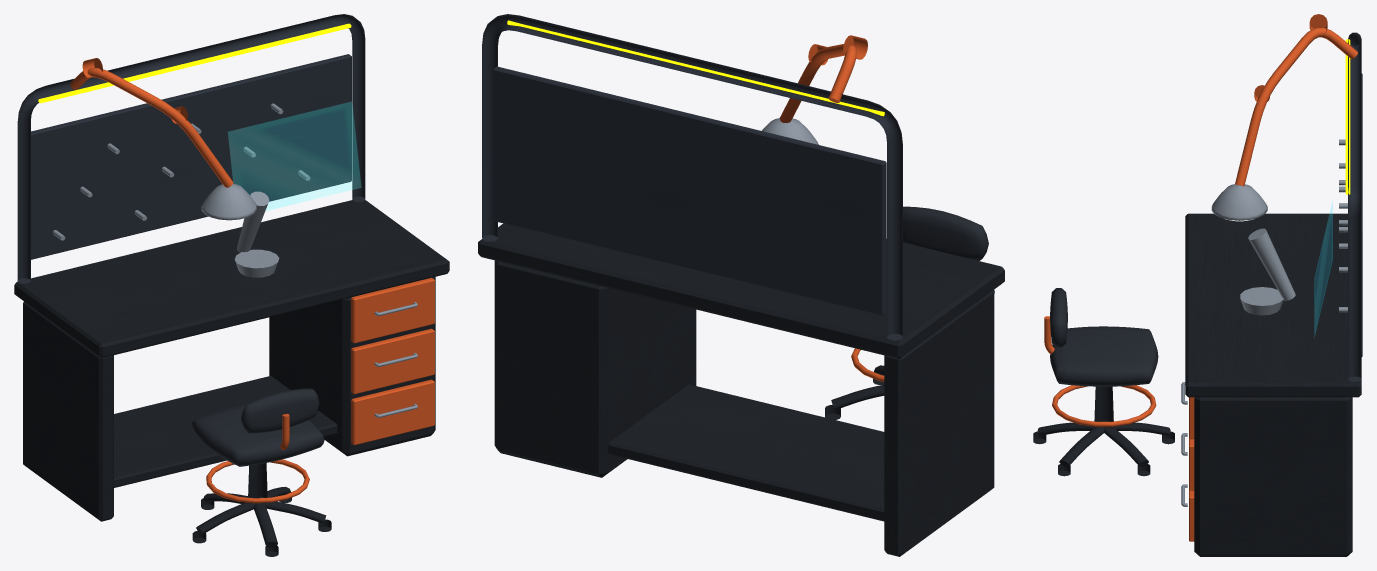
File: desk_r1_04.glb
3 renders of one model, left to right at view 1: azimuth 30°, elevation 25°; view 2: azimuth 150°, elevation 25°; view 3: azimuth 270°, elevation 25°, orthographic. The views are drawn at different scales.
Visible parts, largest first — view 1: Desk04_GunmetalBench, Desk04_PegConduitGantry, Desk04_OrangeDrawerFronts, Desk04_BlueprintVisor, Desk04_IndustrialStool_SeatCushion, Desk04_IndustrialStool_SwivelBase, Desk04_IndustrialStool_LumbarPad, Desk04_ArticulatedScannerArm, Desk04_DiagnosticScope, Desk04_AmberWorkLED, Desk04_ScannerHead, Desk04_IndustrialStool_FootRing (+2 smaller); view 2: Desk04_GunmetalBench, Desk04_PegConduitGantry, Desk04_IndustrialStool_LumbarPad, Desk04_ArticulatedScannerArm, Desk04_AmberWorkLED, Desk04_IndustrialStool_SwivelBase, Desk04_ScannerHead; view 3: Desk04_GunmetalBench, Desk04_IndustrialStool_SeatCushion, Desk04_PegConduitGantry, Desk04_IndustrialStool_SwivelBase, Desk04_ArticulatedScannerArm, Desk04_DiagnosticScope, Desk04_ScannerHead, Desk04_BlueprintVisor, Desk04_IndustrialStool_FootRing, Desk04_IndustrialStool_LumbarPad, Desk04_OrangeDrawerFronts, Desk04_AmberWorkLED (+1 smaller).
Part boxes in pixels (bbox=[...]): Desk04_GunmetalBench: bbox=[14, 200, 449, 521]; Desk04_PegConduitGantry: bbox=[17, 14, 365, 283]; Desk04_OrangeDrawerFronts: bbox=[351, 277, 434, 445]; Desk04_BlueprintVisor: bbox=[228, 102, 361, 210]; Desk04_IndustrialStool_SeatCushion: bbox=[191, 404, 324, 466]; Desk04_IndustrialStool_SwivelBase: bbox=[192, 463, 331, 556]; Desk04_IndustrialStool_LumbarPad: bbox=[241, 388, 319, 433]; Desk04_ArticulatedScannerArm: bbox=[70, 58, 233, 187]; Desk04_DiagnosticScope: bbox=[234, 191, 279, 277]; Desk04_AmberWorkLED: bbox=[38, 23, 351, 103]; Desk04_ScannerHead: bbox=[201, 183, 257, 220]; Desk04_IndustrialStool_FootRing: bbox=[206, 459, 309, 503]; Desk04_GunmetalBench: bbox=[478, 223, 1004, 556]; Desk04_PegConduitGantry: bbox=[482, 14, 902, 340]; Desk04_IndustrialStool_LumbarPad: bbox=[903, 206, 988, 260]; Desk04_ArticulatedScannerArm: bbox=[780, 35, 867, 122]; Desk04_AmberWorkLED: bbox=[507, 20, 884, 116]; Desk04_IndustrialStool_SwivelBase: bbox=[825, 365, 884, 419]; Desk04_ScannerHead: bbox=[762, 118, 818, 144]; Desk04_GunmetalBench: bbox=[1185, 213, 1361, 556]; Desk04_IndustrialStool_SeatCushion: bbox=[1050, 326, 1158, 386]; Desk04_PegConduitGantry: bbox=[1348, 32, 1362, 381]; Desk04_IndustrialStool_SwivelBase: bbox=[1033, 386, 1174, 476]; Desk04_ArticulatedScannerArm: bbox=[1235, 14, 1357, 186]; Desk04_DiagnosticScope: bbox=[1240, 228, 1295, 315]; Desk04_ScannerHead: bbox=[1211, 184, 1267, 220]; Desk04_BlueprintVisor: bbox=[1314, 201, 1332, 336]; Desk04_IndustrialStool_FootRing: bbox=[1052, 385, 1156, 426]; Desk04_IndustrialStool_LumbarPad: bbox=[1050, 288, 1067, 347]; Desk04_OrangeDrawerFronts: bbox=[1189, 397, 1194, 541]; Desk04_AmberWorkLED: bbox=[1345, 39, 1350, 194].
Size of the model in its own units: 1.8 by 1.99 by 1.46.
8 materials, 8 textured.
